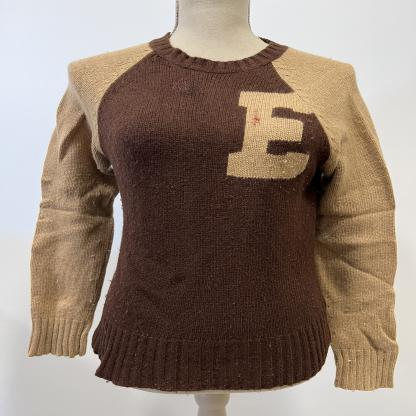stain: (164, 75, 211, 101), (243, 105, 267, 130)
